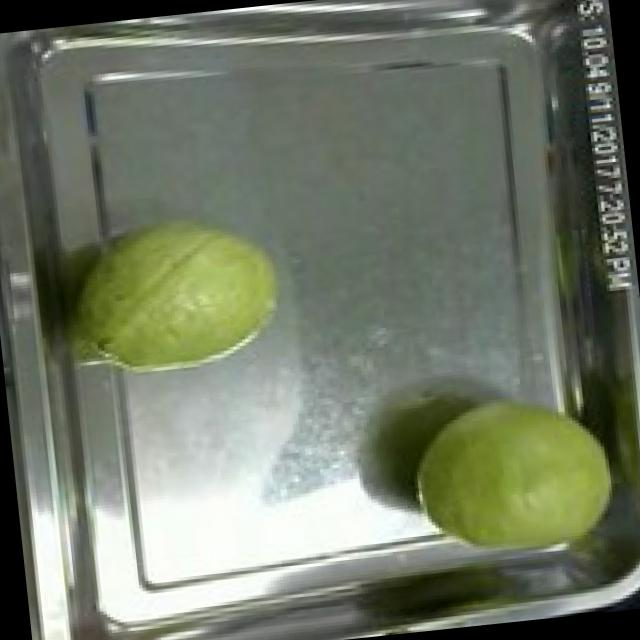Fruit: (395, 370, 635, 584), (62, 198, 297, 396)
